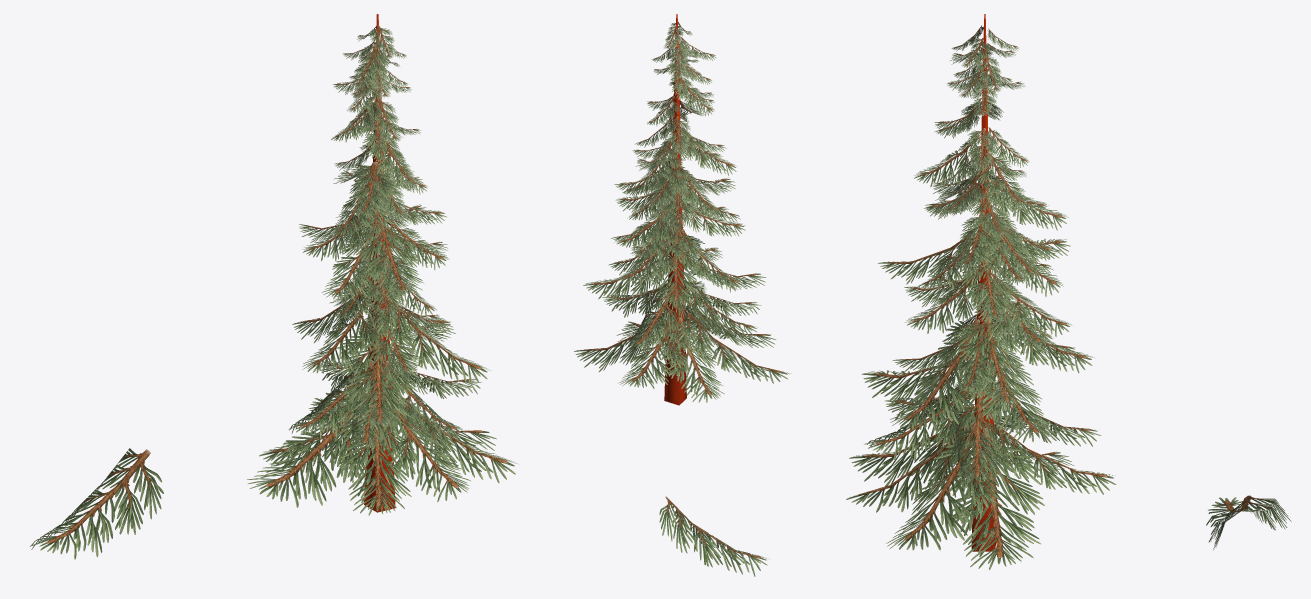
Rendered from PineMobile2.fbx.
3 renders of one model, left to right at view 1: azimuth 30°, elevation 25°; view 2: azimuth 150°, elevation 25°; view 3: azimuth 270°, elevation 25°, orthographic. The views are drawn at different scales.
Parts seen in each view (by area): view 1: PineTree1 Branch.005, PineTree1 Branch.008, PineTree1 Branch.002, PineTree1 Branch.093, PineTree1 Branch.003, PineTree1 Branch.111, PineTree1 Branch.090, PineTree1 Branch.018, PineTree1 Branch.007, PineTree1 Branch.009, PineTree1 Branch.044, Cube (+17 smaller); view 2: PineTree1 Branch.005, PineTree1 Branch.006, PineTree1 Branch.012, PineTree1 Branch.103, PineTree1 Branch.008, Cube, PineTree1 Branch.013, PineTree1 Branch.092, PineTree1 Branch.004, PineTree1 Branch.009, PineTree1 Branch.028, PineTree1 Branch.019 (+27 smaller); view 3: PineTree1 Branch.004, PineTree1 Branch.007, PineTree1 Branch.090, PineTree1 Branch.031, PineTree1 Branch.010, PineTree1 Branch.019, PineTree1 Branch.003, PineTree1 Branch.001, PineTree1 Branch.006, PineTree1 Branch.040, PineTree1 Branch.002, Cube (+26 smaller).
Boxes of the visible parts, <box> form: PineTree1 Branch.005: <box>30,448,163,559</box>; PineTree1 Branch.008: <box>247,388,385,507</box>; PineTree1 Branch.002: <box>334,392,416,515</box>; PineTree1 Branch.093: <box>336,328,417,428</box>; PineTree1 Branch.003: <box>359,390,470,502</box>; PineTree1 Branch.111: <box>353,220,424,298</box>; PineTree1 Branch.090: <box>376,298,490,385</box>; PineTree1 Branch.018: <box>302,291,390,374</box>; PineTree1 Branch.007: <box>383,389,517,483</box>; PineTree1 Branch.009: <box>288,360,382,438</box>; PineTree1 Branch.044: <box>321,228,391,301</box>; Cube: <box>364,14,395,512</box>; PineTree1 Branch.005: <box>659,496,768,576</box>; PineTree1 Branch.006: <box>618,316,694,388</box>; PineTree1 Branch.012: <box>651,317,724,402</box>; PineTree1 Branch.103: <box>649,227,703,306</box>; PineTree1 Branch.008: <box>677,310,791,383</box>; Cube: <box>664,14,686,405</box>; PineTree1 Branch.013: <box>627,285,686,350</box>; PineTree1 Branch.092: <box>615,228,686,286</box>; PineTree1 Branch.004: <box>574,310,666,371</box>; PineTree1 Branch.009: <box>681,287,758,338</box>; PineTree1 Branch.028: <box>614,204,678,250</box>; PineTree1 Branch.019: <box>583,256,665,302</box>; PineTree1 Branch.004: <box>935,428,1044,569</box>; PineTree1 Branch.007: <box>886,421,1013,550</box>; PineTree1 Branch.090: <box>890,318,1006,431</box>; PineTree1 Branch.031: <box>954,317,1026,409</box>; PineTree1 Branch.010: <box>955,392,1001,486</box>; PineTree1 Branch.019: <box>954,345,1055,443</box>; PineTree1 Branch.003: <box>846,417,974,512</box>; PineTree1 Branch.001: <box>864,384,976,460</box>; PineTree1 Branch.006: <box>996,425,1116,494</box>; PineTree1 Branch.040: <box>959,255,1014,322</box>; PineTree1 Branch.002: <box>849,404,974,486</box>; Cube: <box>971,14,996,551</box>.
Bounding box in the file's own units: 1498 × 2249 × 1496.
